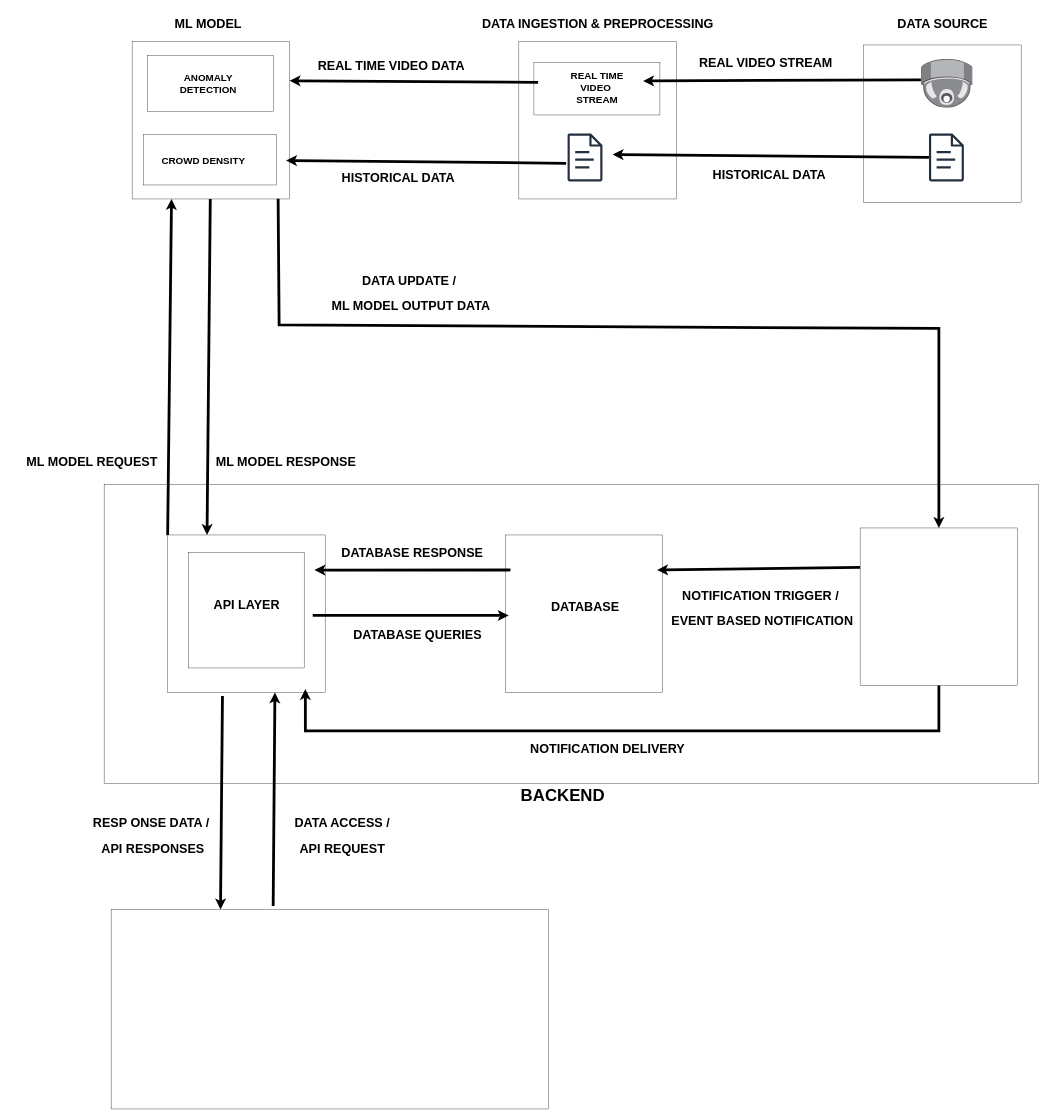
The diagram is 1045 pixels wide and 1115 high, and some of its shapes have lost their labels. Here are the shapes that lost their labels. From the top down, the centre of each, then its label:
At (x=939, y=606): "NOTIFICATION SERVICE".
At (x=330, y=1009): "WEB APP".
